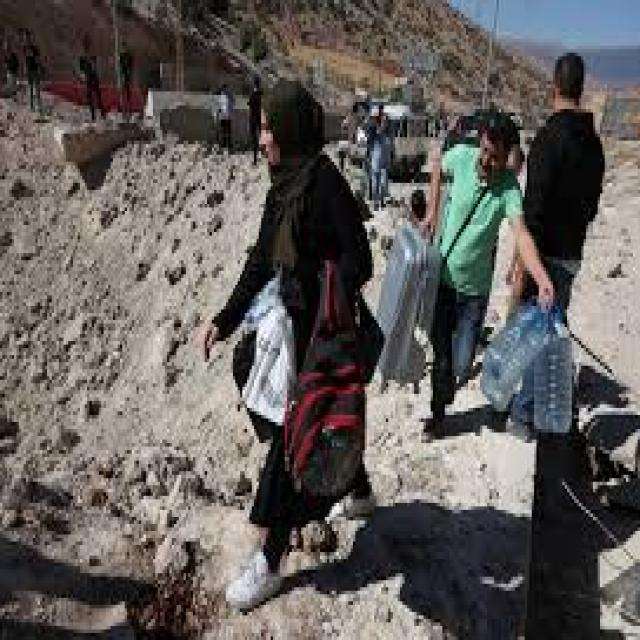civilian: (202, 81, 381, 605), (424, 109, 551, 433), (522, 53, 602, 306)
